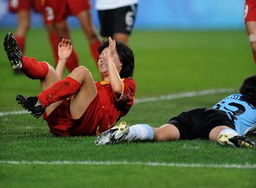fall: (101, 72, 255, 151)
